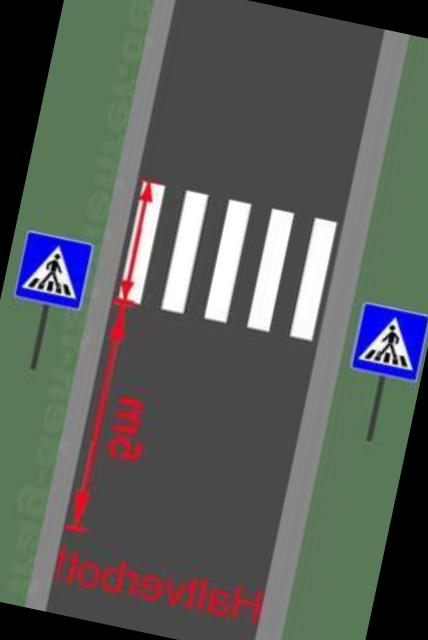crosswalk-sign: (13, 229, 95, 311), (350, 300, 428, 384)
